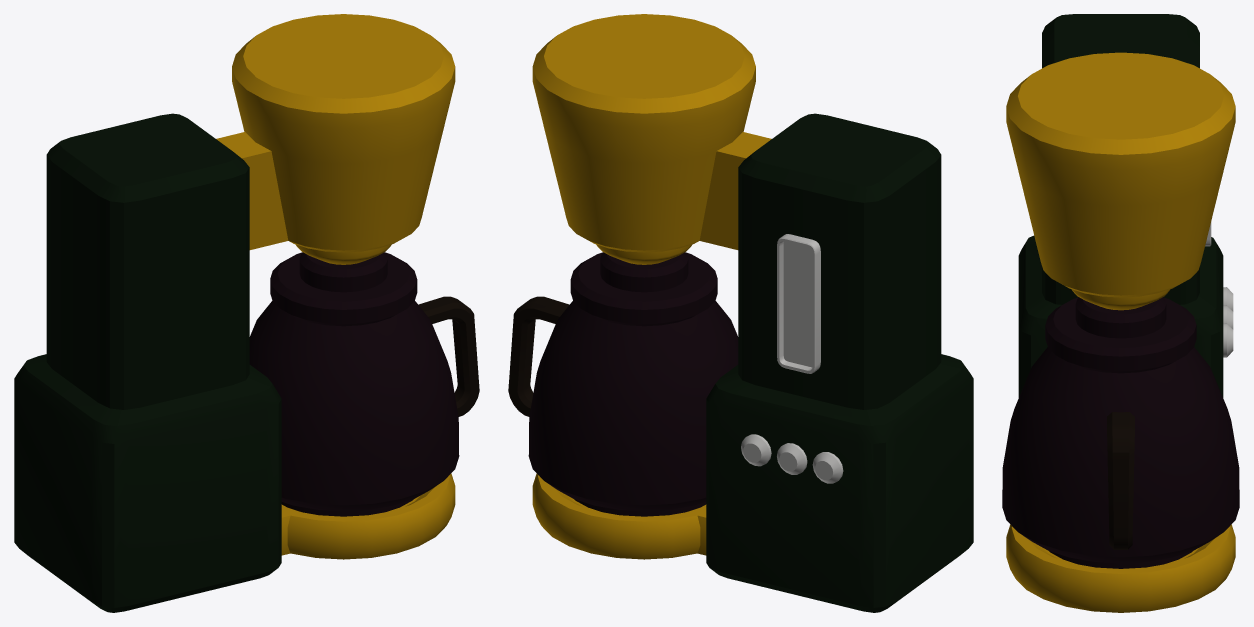
File: Coffee maker.FBX
3 renders of one model, left to right at view 1: azimuth 30°, elevation 25°; view 2: azimuth 150°, elevation 25°; view 3: azimuth 270°, elevation 25°, orthographic. The views are drawn at different scales.
Parts seen in each view (by area): view 1: Coffee maker; view 2: Coffee maker; view 3: Coffee maker.
Part boxes in pixels (box(x1,y1,x2,y2)): Coffee maker: box(14, 14, 479, 612); Coffee maker: box(508, 14, 973, 612); Coffee maker: box(1002, 14, 1239, 612).
Size of the model in its own units: 934 by 444 by 972.
